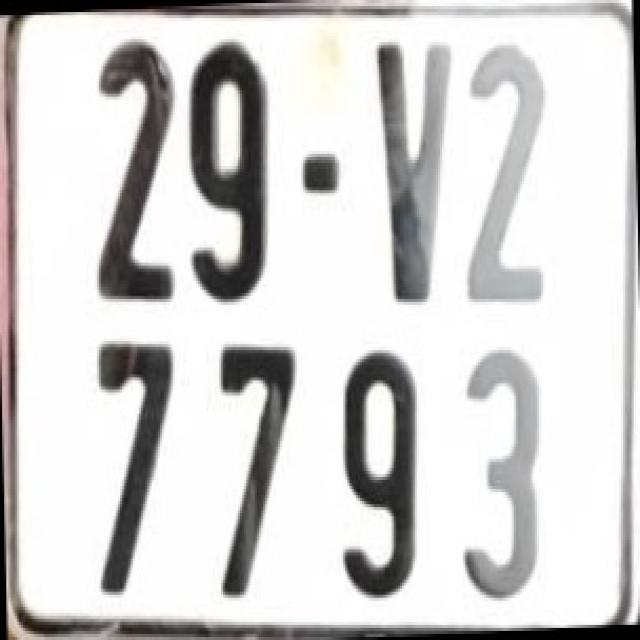2: (462, 35, 553, 309), (91, 33, 178, 305)
3: (457, 341, 545, 601)
7: (211, 335, 298, 601), (89, 334, 176, 596)
9: (184, 36, 275, 305), (334, 343, 422, 599)
V: (368, 32, 457, 306)
